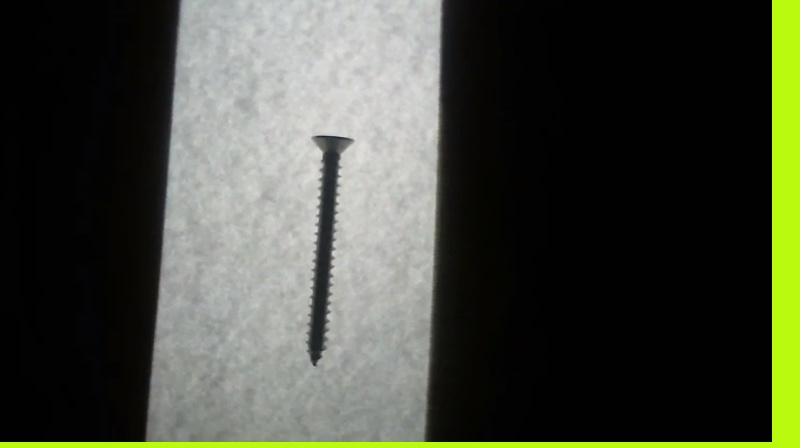S002: (303, 131, 359, 371)
